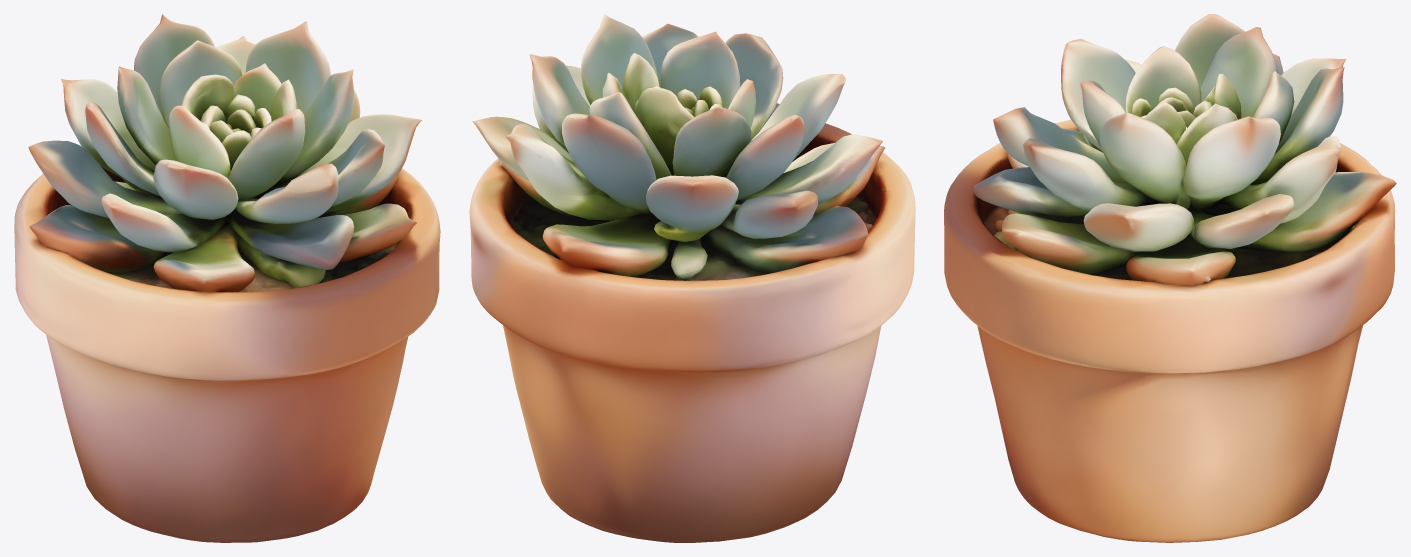
The picture shows the model from 3 angles, left to right: view 1: azimuth 30°, elevation 25°; view 2: azimuth 150°, elevation 25°; view 3: azimuth 270°, elevation 25°; orthographic projection. The views are drawn at different scales.
Visible parts, largest first — view 1: model; view 2: model; view 3: model.
Part boxes in pixels (x1,y1,x2,y2): model: (14, 14, 440, 542); model: (469, 14, 915, 542); model: (944, 14, 1396, 542).
Size of the model in its own units: 172 by 182 by 175.
